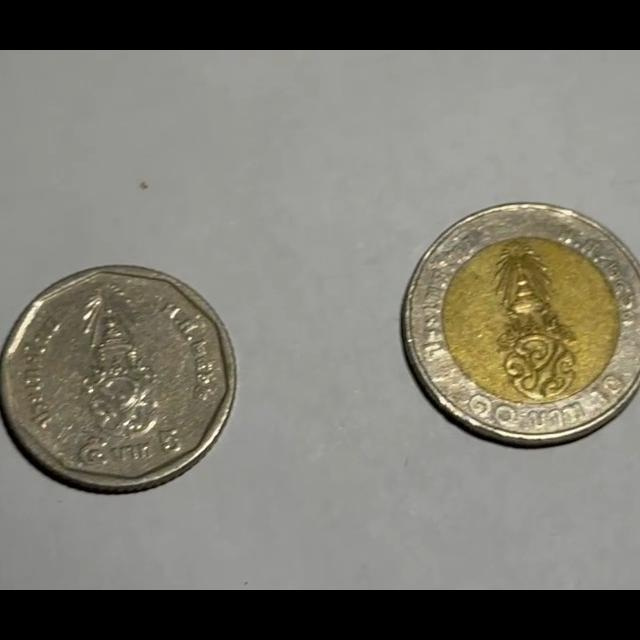10-baht: (398, 202, 640, 445)
5-baht: (0, 265, 232, 493)
